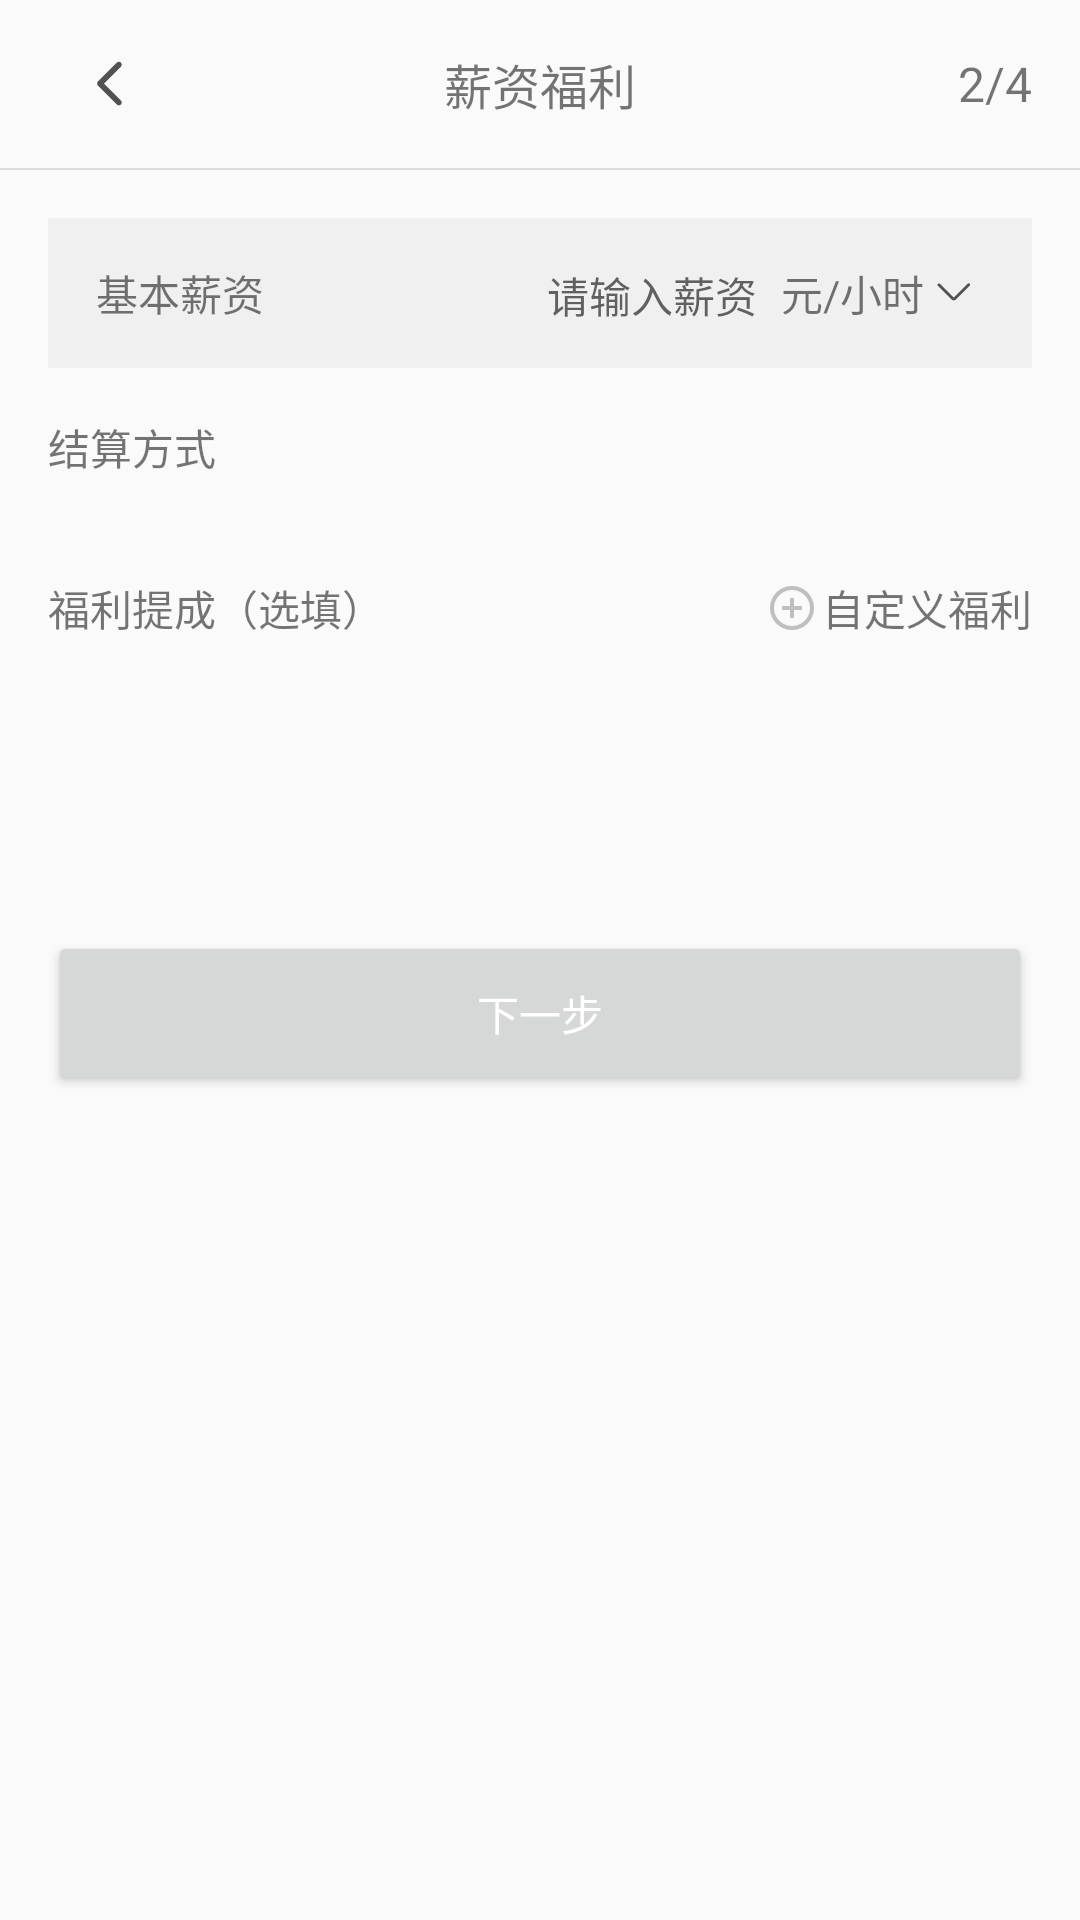

Icon bounding boxes for this 1080 x 1920 phone screenshot, format BBox(x1, y1, x2, y2):
add: BBox(770, 586, 814, 630)
back: BBox(97, 61, 122, 106)
down arrow: BBox(937, 283, 970, 301)
